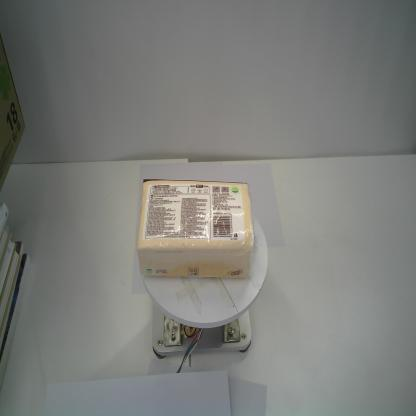Tissue: (136, 178, 254, 280)
